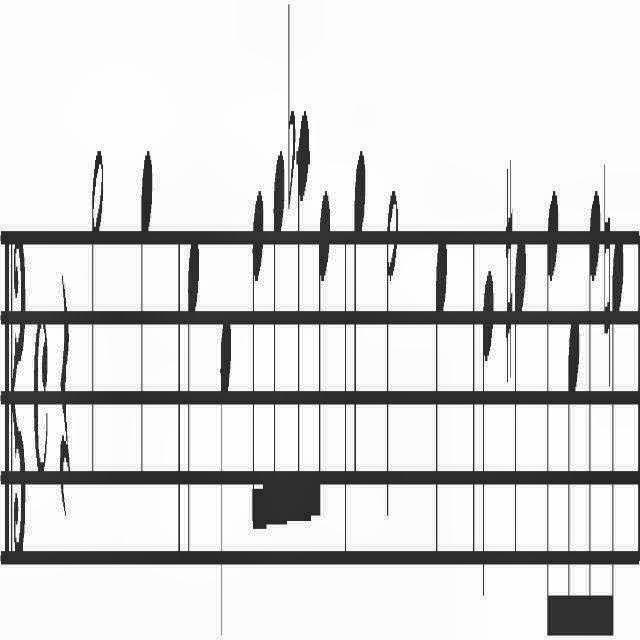Bemol: (284, 1, 296, 236)
Diez: (502, 136, 514, 386)
Eighth-note: (312, 139, 334, 579), (544, 164, 564, 640), (248, 148, 268, 592), (586, 176, 602, 640), (610, 200, 626, 640), (296, 108, 310, 570), (566, 280, 582, 640), (271, 142, 285, 550)
Half-note: (89, 114, 107, 566), (386, 159, 400, 581)
Quarter-note: (431, 195, 453, 585), (183, 208, 204, 616), (352, 110, 368, 556), (479, 237, 497, 616), (216, 245, 232, 640), (140, 136, 156, 528), (513, 214, 529, 572)
Quarter-rest: (56, 222, 72, 550)
